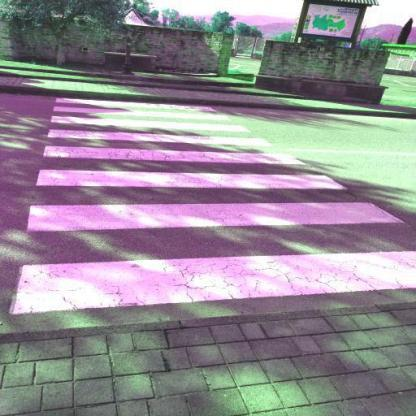crosswalk: (23, 142, 355, 194), (47, 103, 250, 134)
